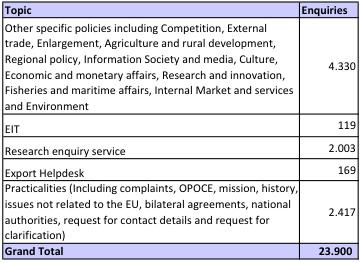table: (3, 3, 354, 257)
table column: (3, 3, 298, 257), (298, 3, 354, 257)
table column header: (3, 3, 354, 18)
table row: (3, 18, 354, 115), (3, 180, 354, 243), (3, 115, 354, 138), (3, 138, 354, 160), (3, 160, 354, 180), (3, 3, 354, 18), (3, 243, 354, 257)
